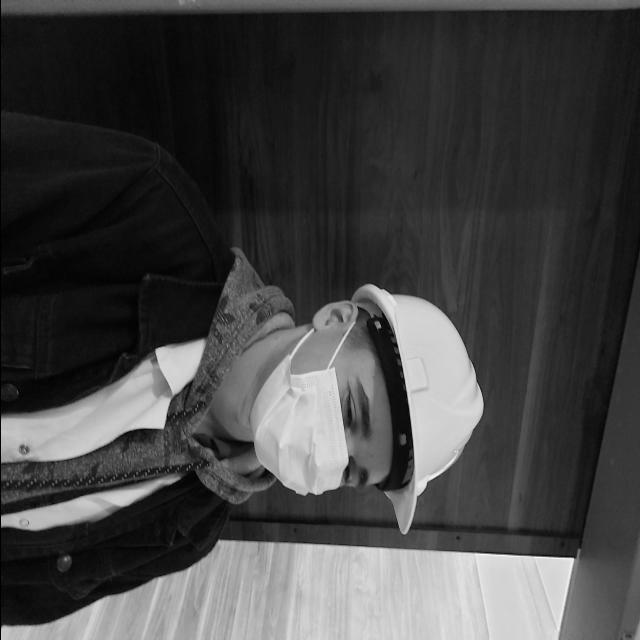construction helmet: (351, 284, 481, 534)
